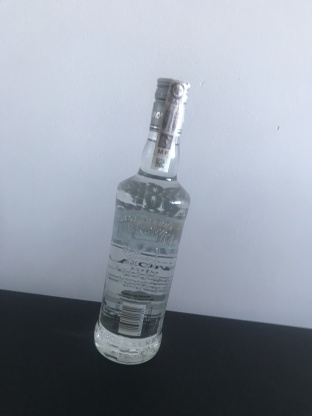nakretka: (147, 74, 192, 136)
